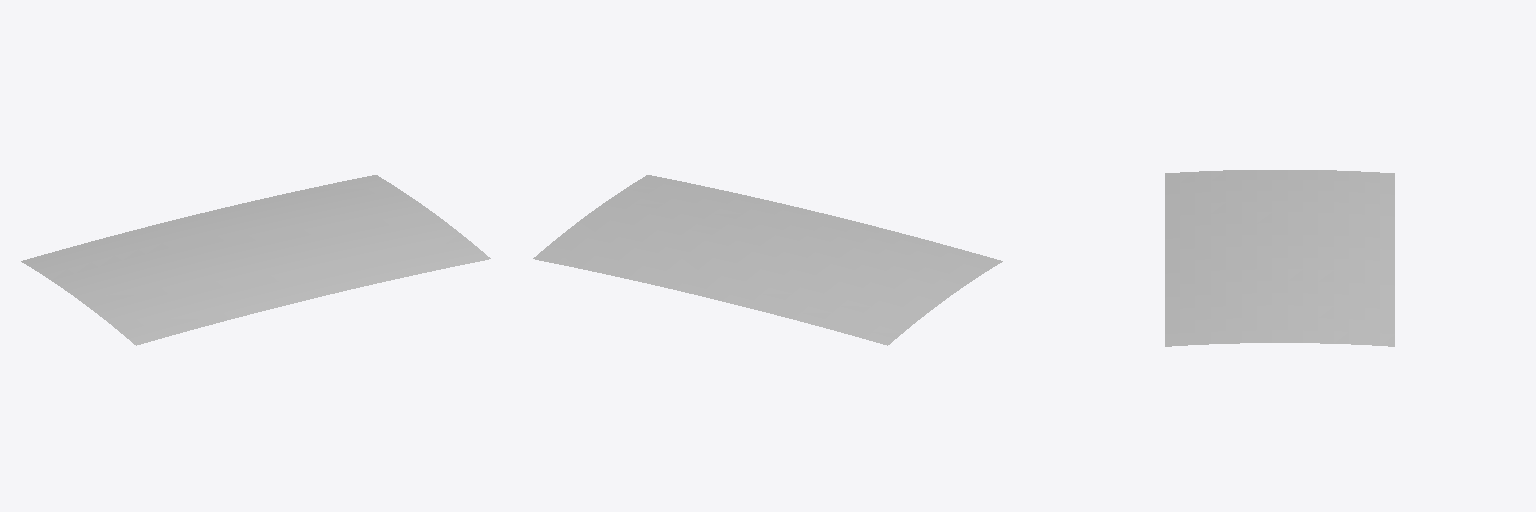
File: cool.obj
3 views of the same model, side by side, from view 1: azimuth 30°, elevation 25°; view 2: azimuth 150°, elevation 25°; view 3: azimuth 270°, elevation 25° (orthographic).
Size of the model in its own units: 16 by 0.3618 by 9.